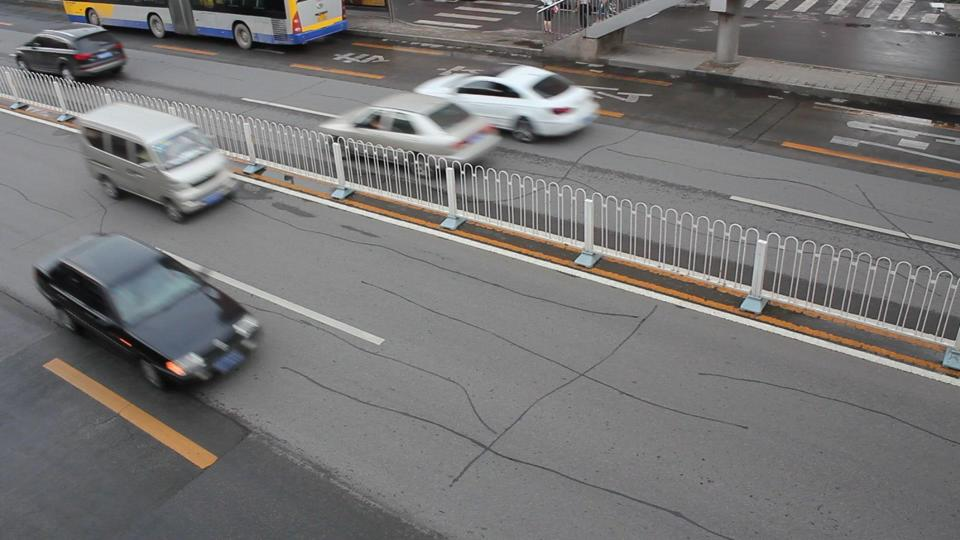Bus: (65, 1, 346, 47)
Car: (37, 232, 254, 384), (321, 92, 496, 178), (415, 63, 597, 142), (15, 23, 126, 83)
Minivan: (77, 99, 237, 217)
